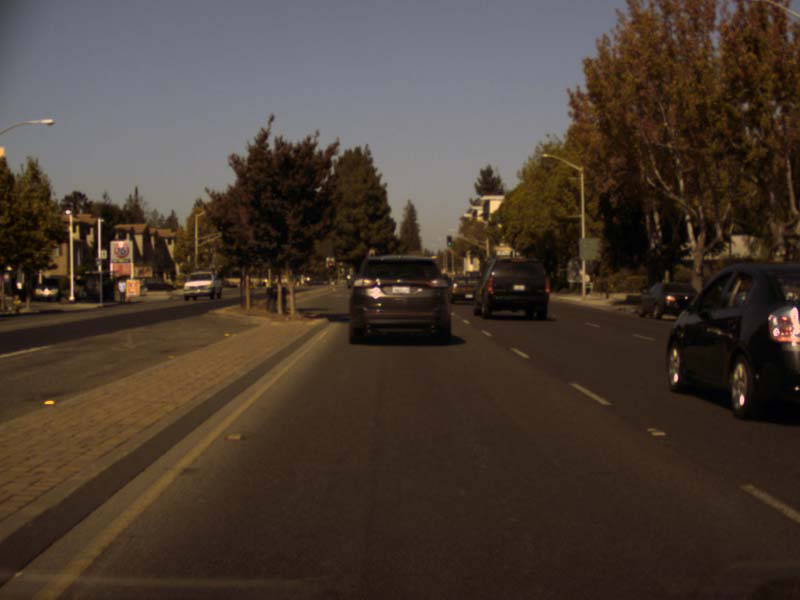Green: (447, 236, 451, 246)
Red: (328, 261, 332, 269)
